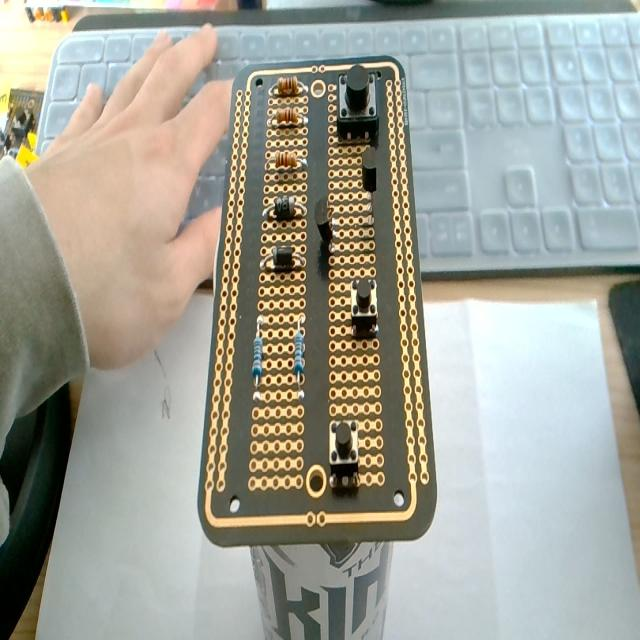diode: (254, 195, 315, 228), (252, 246, 310, 279)
resistor: (262, 140, 314, 177), (264, 107, 315, 141), (292, 307, 308, 409), (251, 314, 267, 412), (264, 80, 314, 107)
switch: (334, 62, 380, 145), (344, 274, 382, 330), (327, 420, 359, 476)
transistor: (355, 145, 383, 226), (316, 196, 345, 256)
